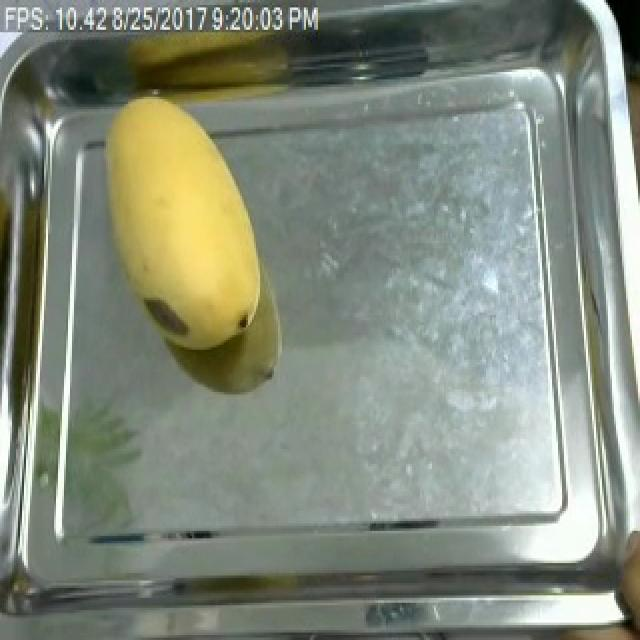fruit: (86, 84, 274, 367)
